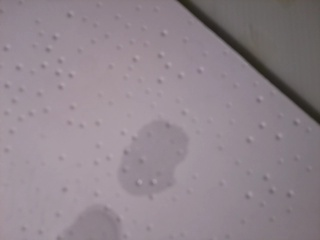Water_detected: (127, 129, 186, 190), (66, 205, 111, 240)
